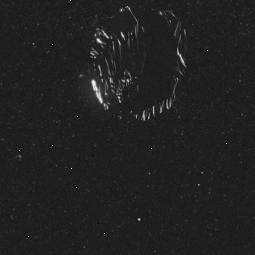lisa_pathfinder: (69, 1, 200, 138)
